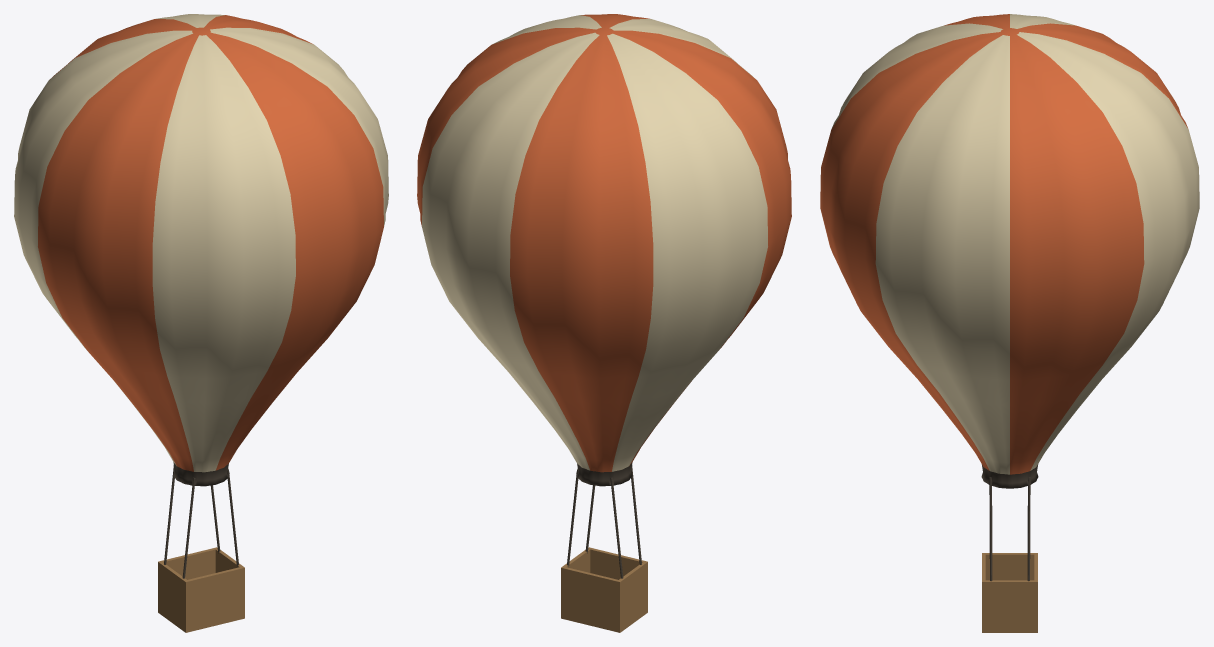
3 views of the same model, side by side, from view 1: azimuth 30°, elevation 25°; view 2: azimuth 150°, elevation 25°; view 3: azimuth 270°, elevation 25° (orthographic).
Parts seen in each view (by area): view 1: Complete hot air balloon closed connected assembly; view 2: Complete hot air balloon closed connected assembly; view 3: Complete hot air balloon closed connected assembly.
Part boxes in pixels (left/top/right/bottom): Complete hot air balloon closed connected assembly: left=14, top=14, right=388, bottom=632; Complete hot air balloon closed connected assembly: left=417, top=14, right=791, bottom=632; Complete hot air balloon closed connected assembly: left=820, top=14, right=1199, bottom=632.
Bounding box in the file's own units: 243 × 414 × 243.
